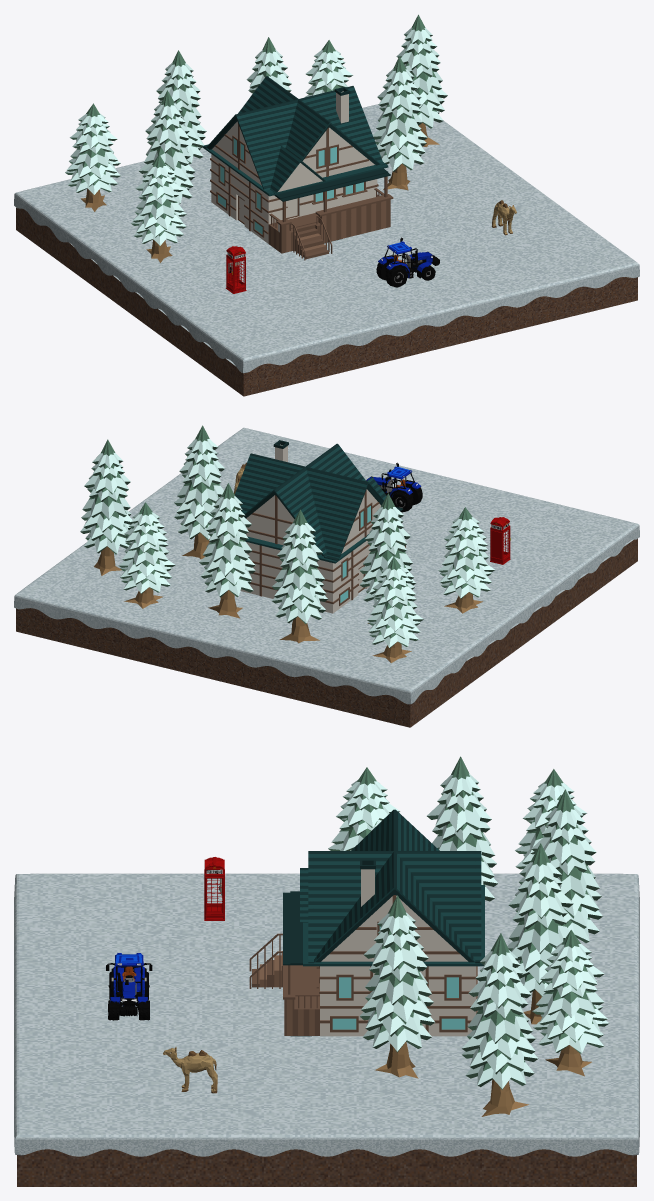
3 views of the same model, one above another, from view 1: azimuth 30°, elevation 25°; view 2: azimuth 150°, elevation 25°; view 3: azimuth 270°, elevation 25° (orthographic). The views are drawn at different scales.
Visible parts, largest first — view 1: Cube.003, Cube.793, VEHICLES_TRACTOR, OBJRANDOM_PHONEBOOTH; view 2: Cube.003, Cube.793, VEHICLES_TRACTOR, OBJRANDOM_PHONEBOOTH; view 3: Cube.003, Cube.793, VEHICLES_TRACTOR, OBJRANDOM_PHONEBOOTH, ANIMAL_CAMELLO.
Boxes of the visible parts, box(x1,y1,x2,y2) form: Cube.003: box(14, 14, 639, 396); Cube.793: box(202, 76, 393, 260); VEHICLES_TRACTOR: box(376, 237, 439, 287); OBJRANDOM_PHONEBOOTH: box(225, 246, 246, 293); Cube.003: box(14, 425, 639, 727); Cube.793: box(234, 440, 405, 613); VEHICLES_TRACTOR: box(366, 462, 422, 512); OBJRANDOM_PHONEBOOTH: box(490, 517, 510, 564); Cube.003: box(14, 756, 639, 1186); Cube.793: box(249, 809, 484, 1036); VEHICLES_TRACTOR: box(106, 953, 152, 1020); OBJRANDOM_PHONEBOOTH: box(204, 857, 224, 920); ANIMAL_CAMELLO: box(163, 1047, 217, 1093).
Size of the model in its own units: 4040 by 1700 by 4040.
Materials: 32 (4 with a texture image).
